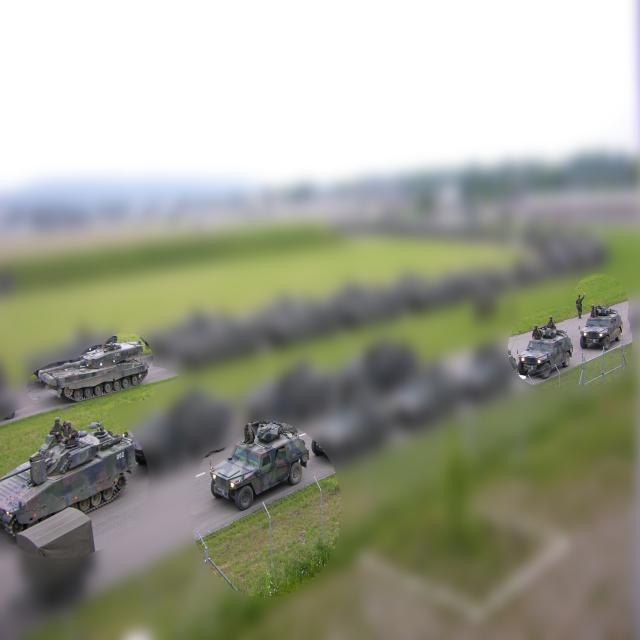tank: (0, 422, 144, 556), (36, 333, 158, 403)
